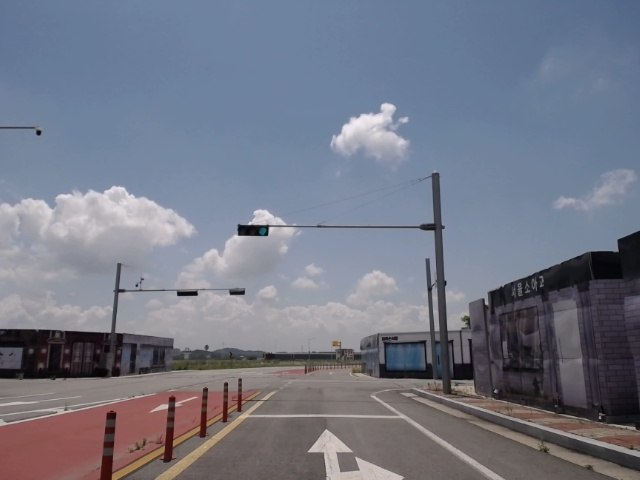green_3: (239, 226, 267, 236)
